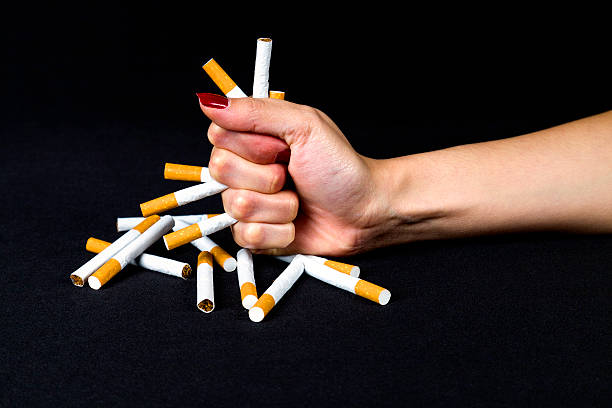cigarette: (69, 214, 160, 288), (88, 216, 175, 291), (277, 252, 391, 306), (86, 235, 192, 279), (247, 260, 305, 324), (172, 219, 237, 274), (139, 182, 231, 218), (161, 212, 239, 251), (113, 213, 224, 232), (202, 57, 248, 100), (163, 161, 227, 183), (304, 255, 361, 278), (237, 249, 258, 311), (252, 37, 272, 98), (195, 252, 214, 316), (270, 90, 286, 99)
